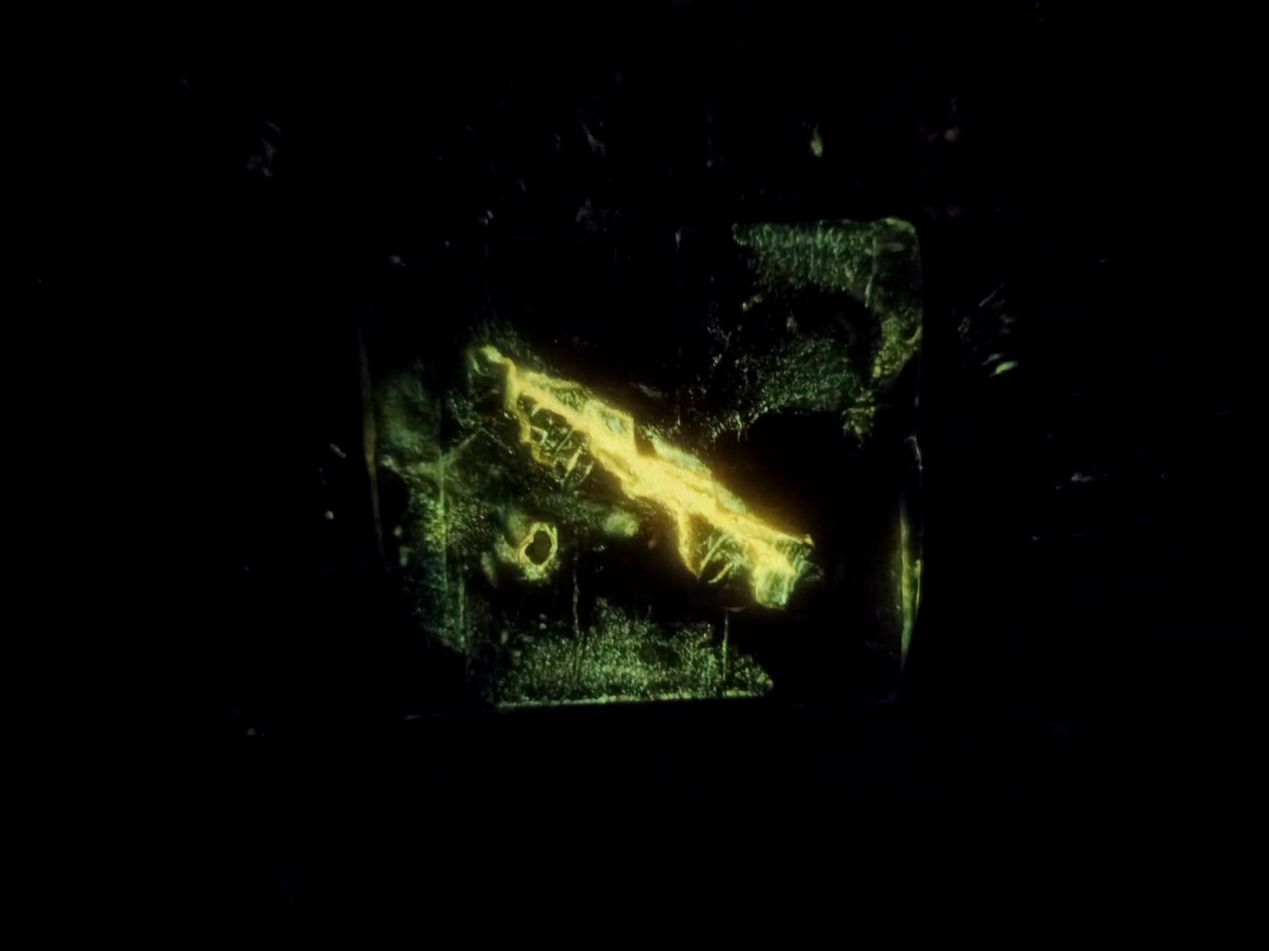Crater: (496, 511, 572, 591)
Fissure: (491, 345, 819, 611)
